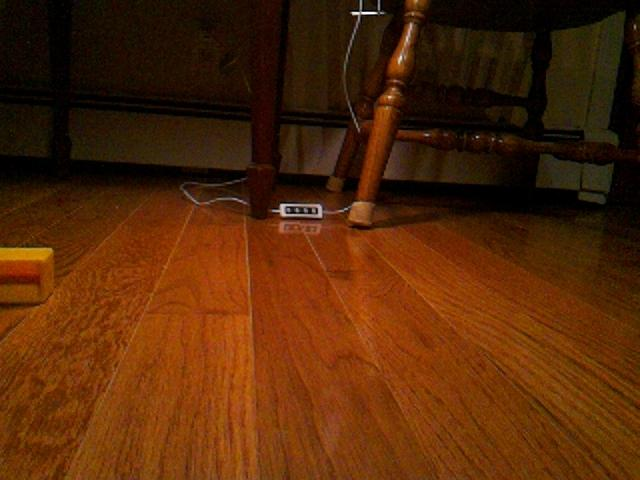yellow: (1, 245, 56, 306)
